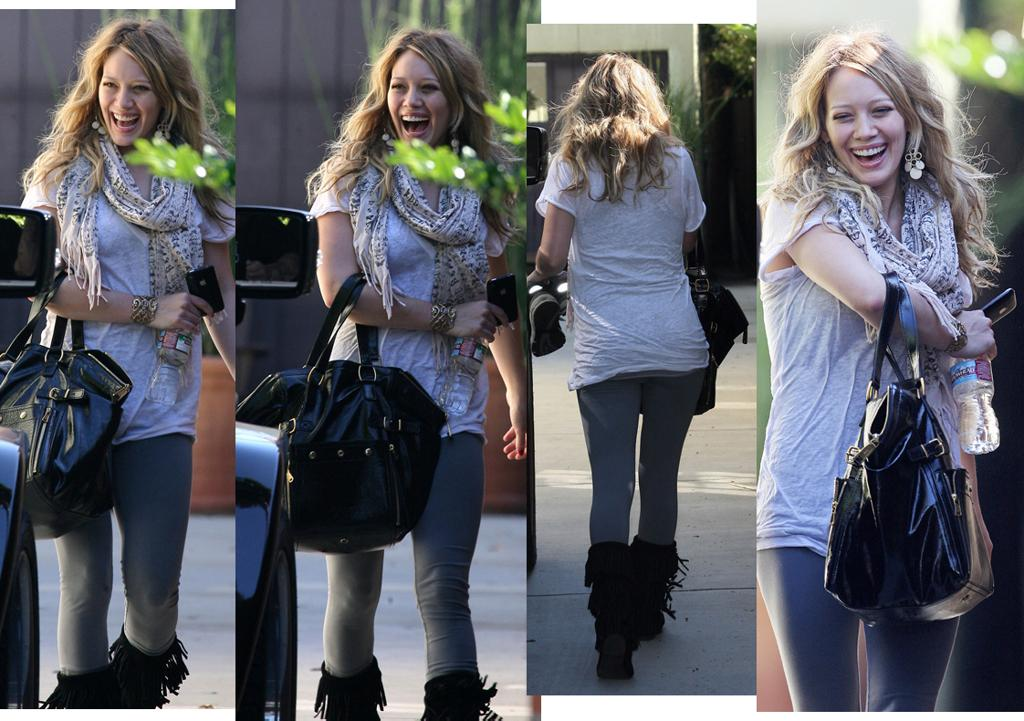face: (828, 66, 910, 184), (98, 48, 162, 144), (392, 50, 454, 144)
